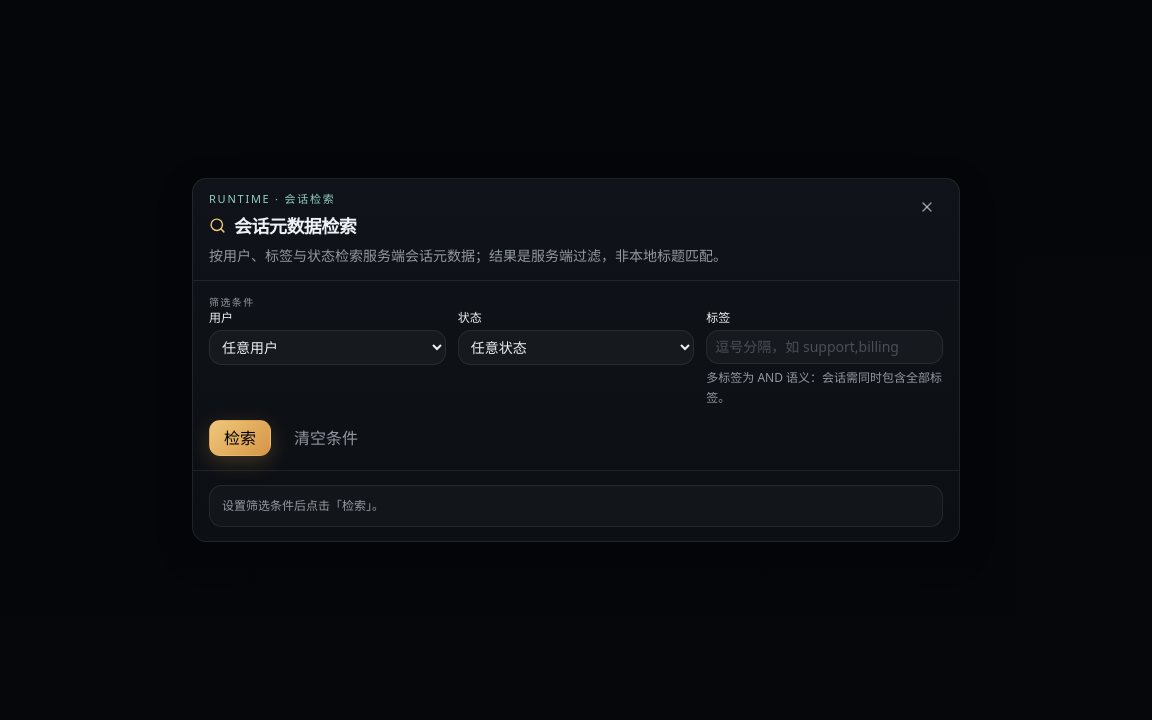
Scenario: SessionSearchDialog › 零命中时显示空态且不渲染结果行
The width and height of the screenshot is (1152, 720).
Step 1. Click the button "检索" → point(240, 438), box [209, 420, 271, 456]
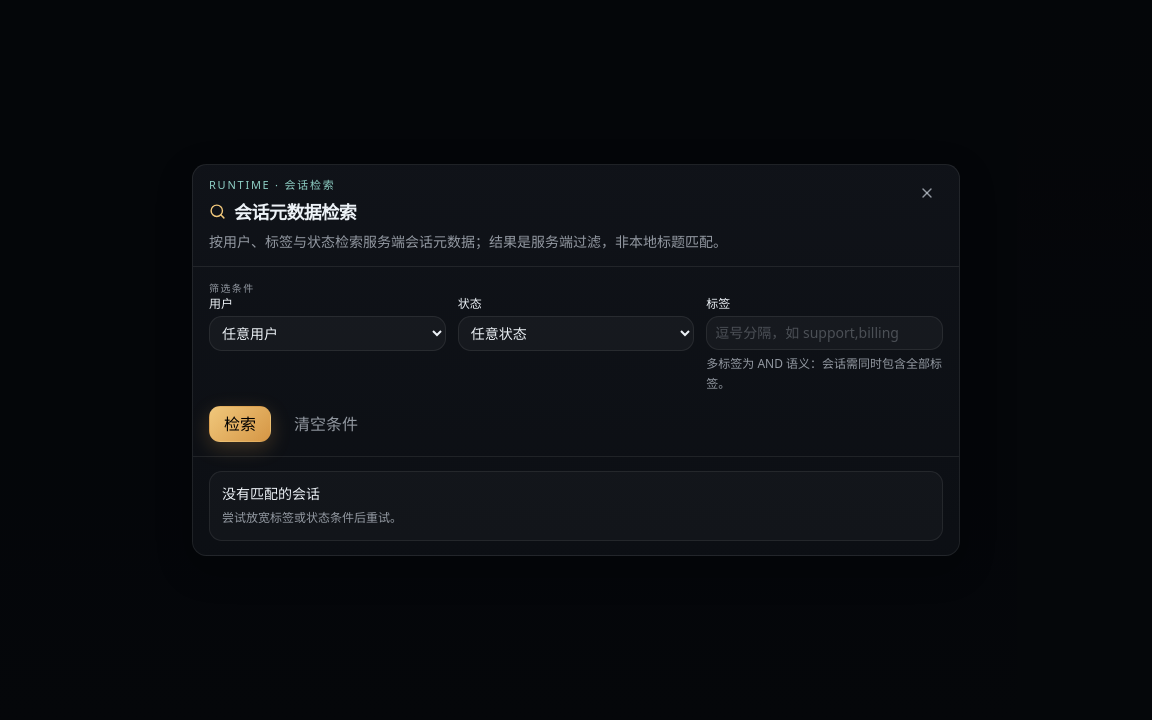
Expected: the text "没有匹配的会话" is shown, [222, 484, 320, 503]
